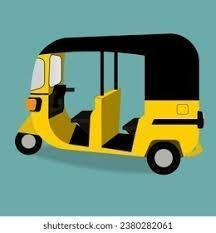keke: (17, 32, 205, 185)
